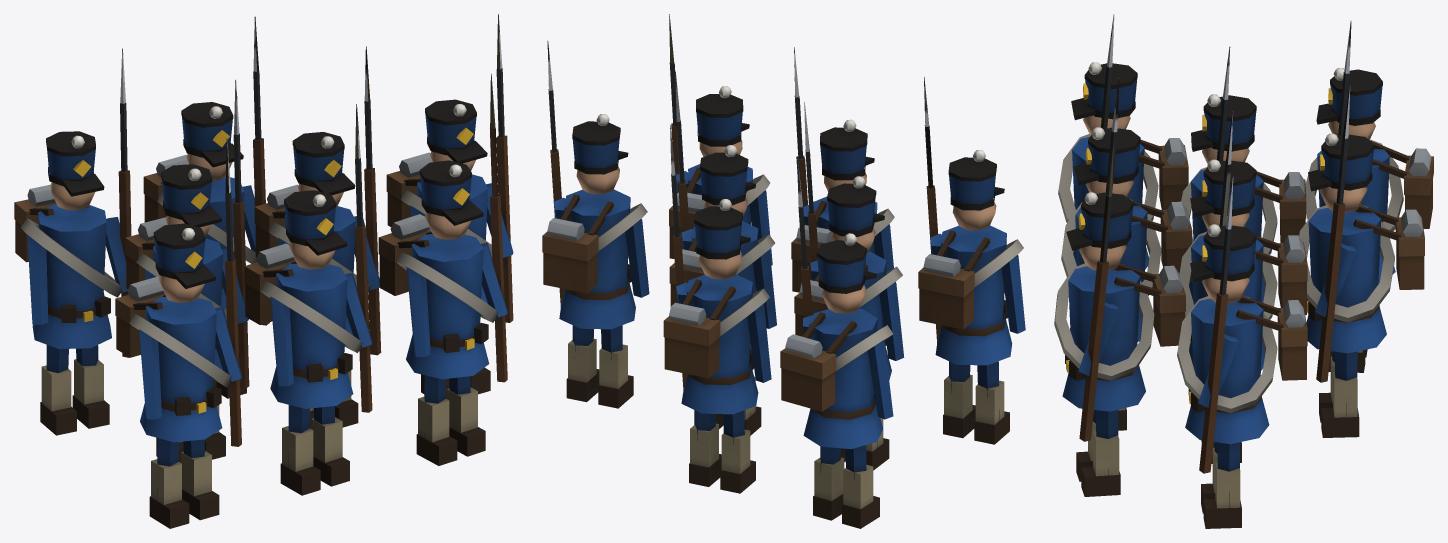
The model's file is squad_dl5_blue.glb.
The picture shows the model from 3 angles, left to right: view 1: azimuth 30°, elevation 25°; view 2: azimuth 150°, elevation 25°; view 3: azimuth 270°, elevation 25°; orthographic projection. The views are drawn at different scales.
Visible parts, largest first — view 1: squad_dl5_blue; view 2: squad_dl5_blue; view 3: squad_dl5_blue.
Boxes of the visible parts, x1,y1,x2,y2 form: squad_dl5_blue: (14,14,513,528); squad_dl5_blue: (542,14,1025,528); squad_dl5_blue: (1054,14,1433,528).
Size of the model in its own units: 0.6466 by 0.5225 by 0.4949.
1 material, 1 textured.
